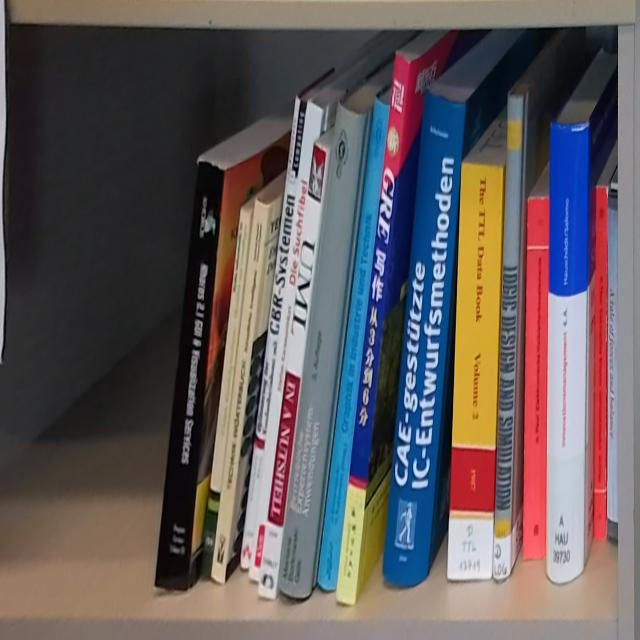Book Spine: (276, 99, 367, 603), (335, 52, 412, 610), (382, 89, 467, 590), (247, 100, 324, 587), (317, 93, 389, 594), (256, 142, 329, 599), (241, 98, 309, 572), (153, 161, 224, 593), (211, 197, 271, 587), (447, 165, 503, 582), (545, 120, 590, 586), (200, 205, 253, 575), (493, 95, 524, 583), (522, 199, 550, 561), (592, 186, 609, 539), (606, 193, 618, 544)
